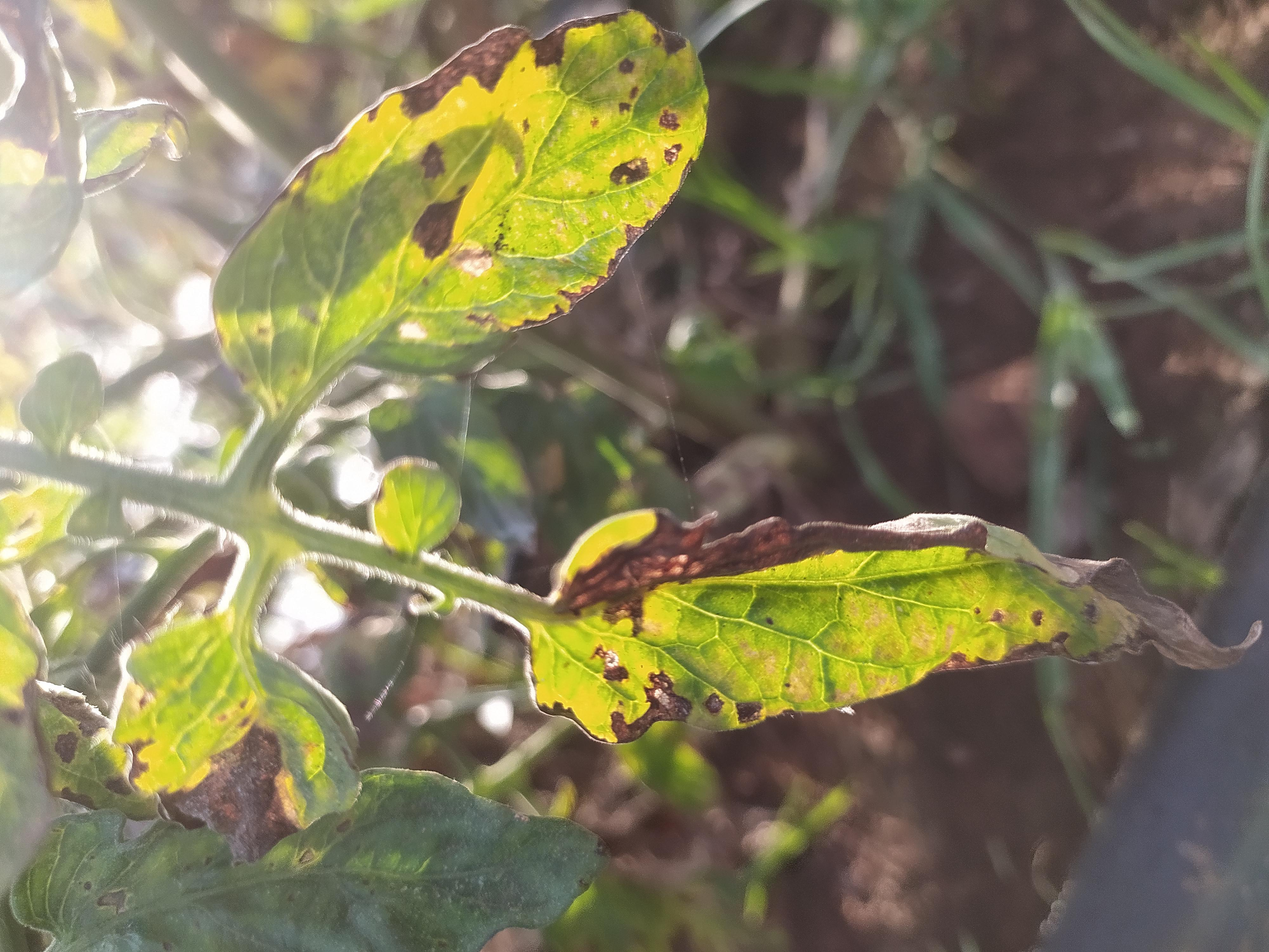Early Blight: (697, 157, 1269, 537), (260, 388, 612, 952), (113, 77, 458, 273)
